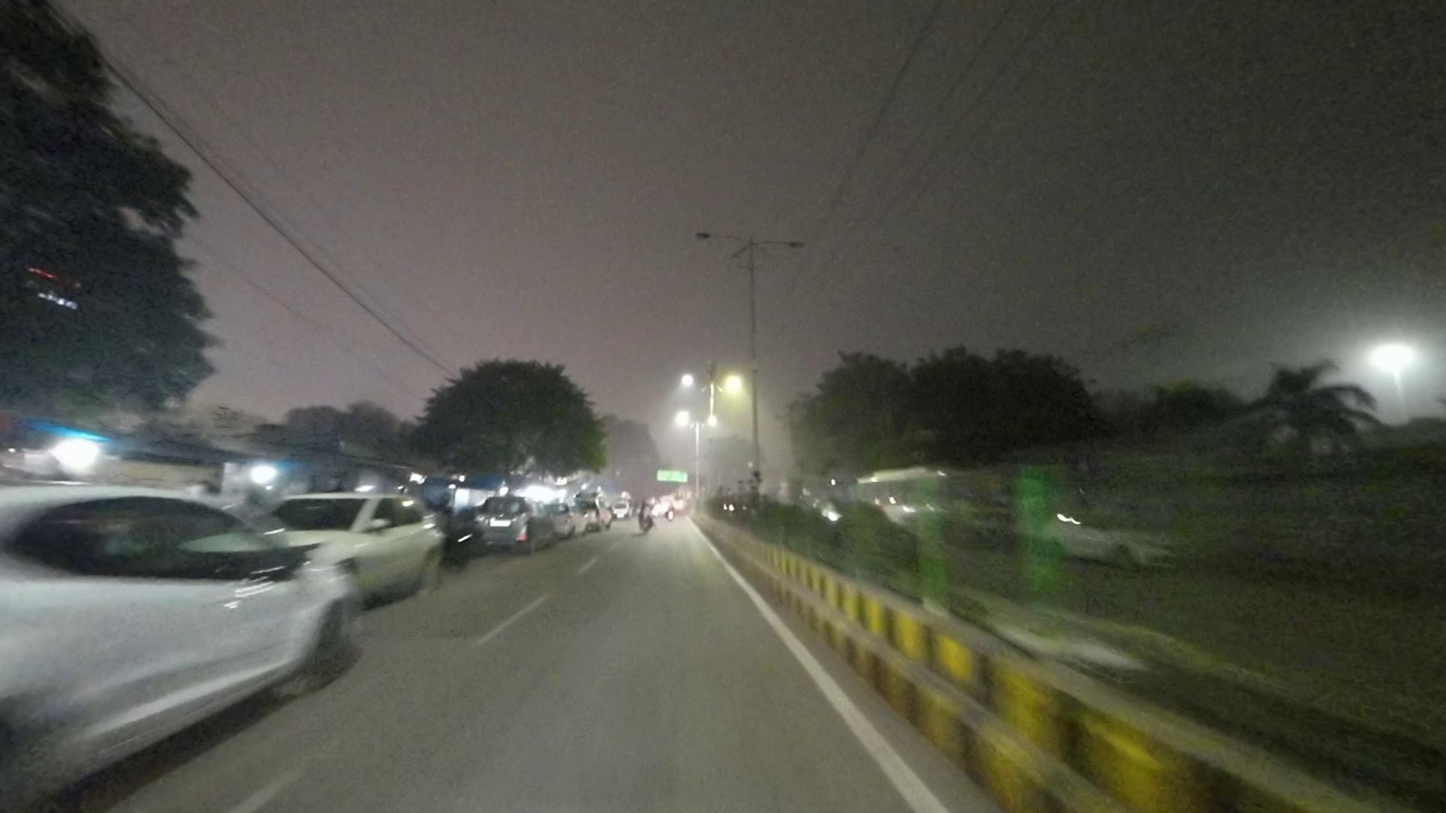streetlight: (752, 238, 808, 251), (694, 230, 745, 243)
